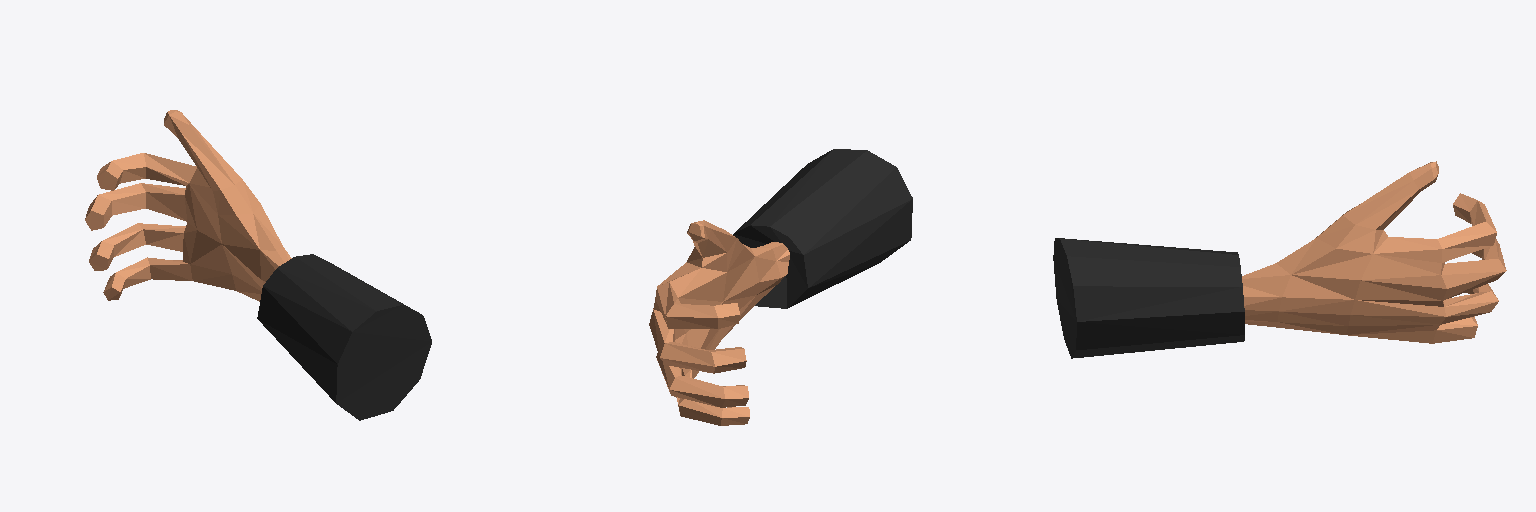
3 renders of one model, left to right at view 1: azimuth 30°, elevation 25°; view 2: azimuth 150°, elevation 25°; view 3: azimuth 270°, elevation 25°, orthographic.
Parts seen in each view (by area): view 1: hand_right; view 2: hand_right; view 3: hand_right.
Boxes of the visible parts, x1=… form: hand_right: x1=85, y1=110, x2=431, y2=420; hand_right: x1=649, y1=149, x2=912, y2=425; hand_right: x1=1053, y1=161, x2=1506, y2=358.
Size of the model in its own units: 0.111 by 0.1287 by 0.2906.
Materials: 1 (1 with a texture image).